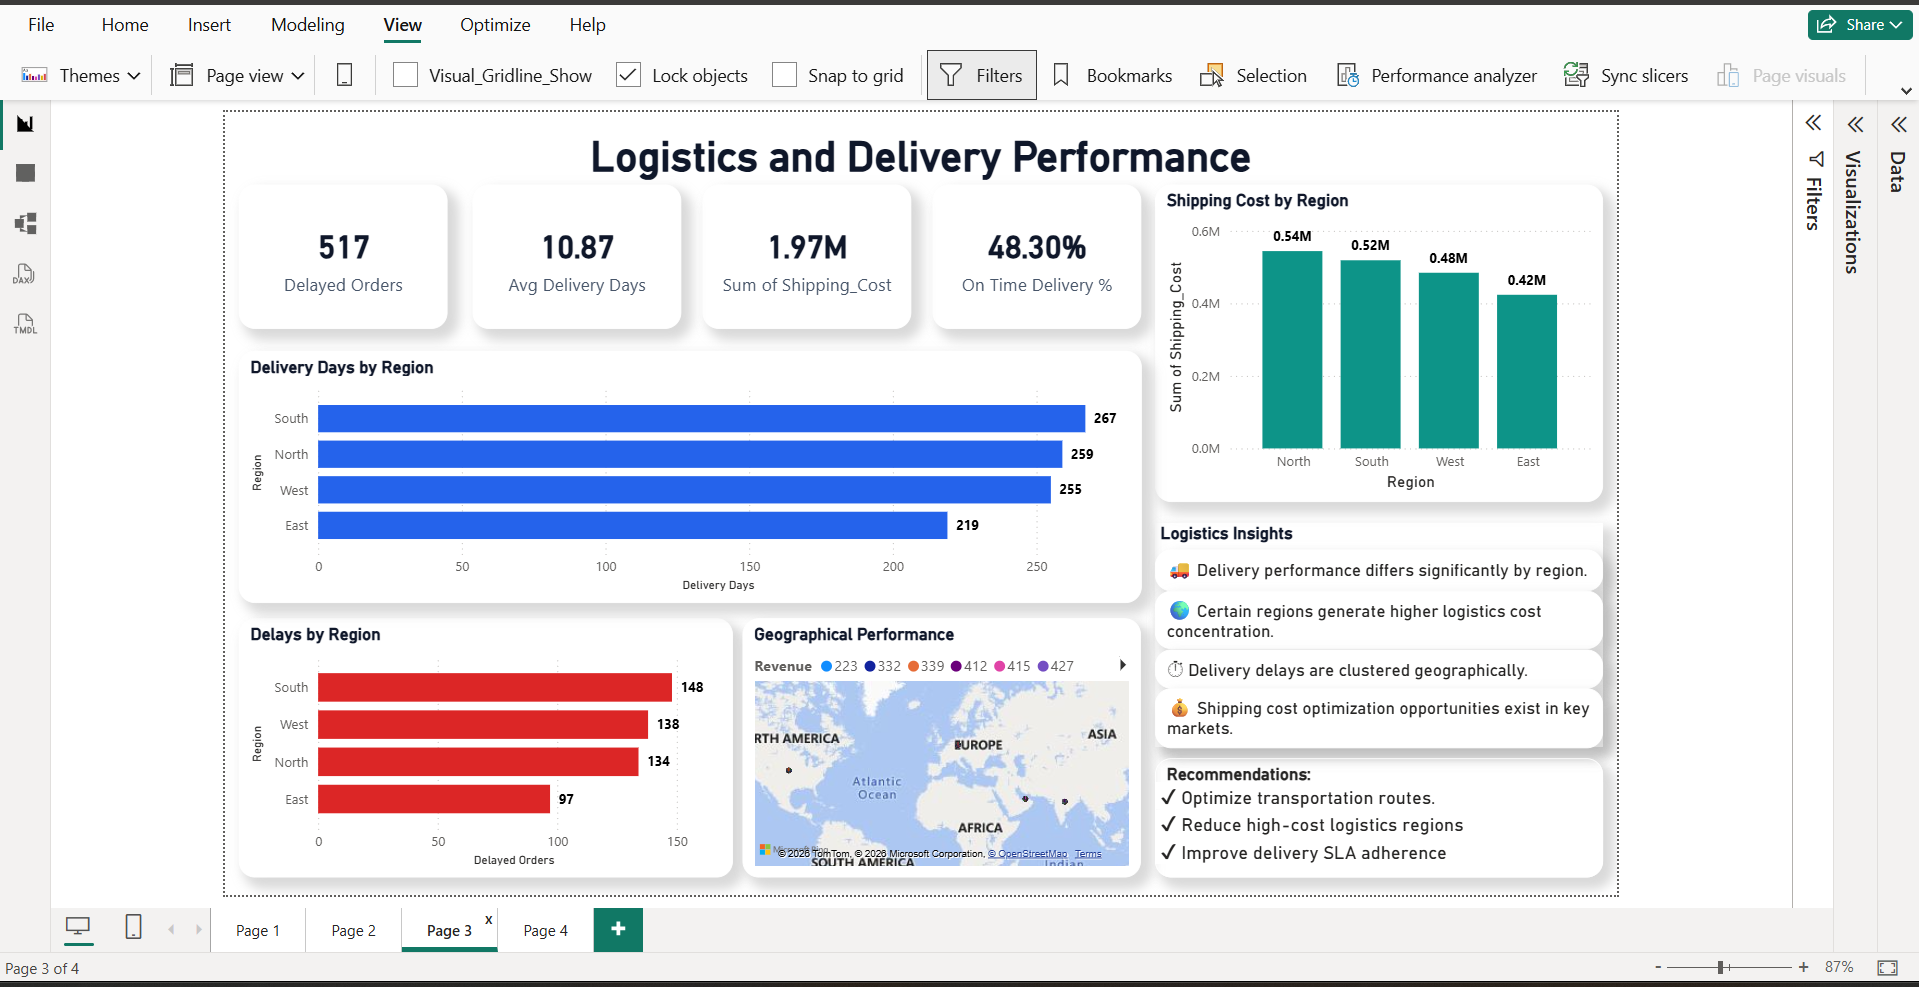

What the dashboard file says about the page in this screenshot:
{"tool":"powerbi","page":{"name":"Page 3","canvas":[1280,720],"ordinal":2},"visuals":[{"type":"textbox","title":"Logistics and Delivery Performance","box":[0,17.8,1280.3,45.3],"z":0},{"type":"card","fields":{"Values":["supply_chain_project supply_chain.On Time Delivery %"]},"box":[650.4,67.2,192.1,133.1],"z":1},{"type":"card","fields":{"Values":["Sum(supply_chain_project supply_chain.Shipping_Cost)"]},"box":[439.1,67.2,192.1,133.1],"z":2},{"type":"card","fields":{"Values":["supply_chain_project supply_chain.Avg Delivery Days"]},"box":[227.8,67.2,192.1,133.1],"z":3},{"type":"card","fields":{"Values":["supply_chain_project supply_chain.Delayed Orders"]},"box":[12.3,67.2,192.1,133.1],"z":4},{"type":"clusteredBarChart","title":"Delays by Region","fields":{"Category":["supply_chain_project supply_chain.Region"],"Y":["supply_chain_project supply_chain.Delayed Orders"]},"box":[12.3,465.2,454.2,238.8],"z":5},{"type":"clusteredColumnChart","title":"Shipping Cost by Region","fields":{"Category":["supply_chain_project supply_chain.Region"],"Y":["Sum(supply_chain_project supply_chain.Shipping_Cost)"]},"box":[854.9,67.2,411.7,292.3],"z":6},{"type":"clusteredBarChart","title":"Delivery Days by Region","fields":{"Category":["supply_chain_project supply_chain.Region"],"Y":["CountNonNull(supply_chain_project supply_chain.Delivery_Days)"]},"box":[12.3,219.6,830.2,231.9],"z":7},{"type":"map","title":"Geographical Performance","fields":{"Category":["supply_chain_project supply_chain.Country"],"Series":["supply_chain_project supply_chain.Revenue"]},"box":[476.2,465.2,366.4,238.8],"z":8},{"type":"textbox","title":"Logistics Insights","box":[854.9,378.7,411.7,205.8],"z":9},{"type":"textbox","title":"🚚 Delivery performance differs significantly by region.","box":[854.9,402.1,411.7,38.4],"z":10},{"type":"textbox","title":"🌍 Certain regions generate higher logistics cost concentration.","box":[854.9,440.5,411.7,53.5],"z":11},{"type":"textbox","title":"⏱ Delivery delays are clustered geographically.","box":[854.9,494,411.7,35.7],"z":12},{"type":"textbox","title":"💰 Shipping cost optimization opportunities exist in key markets.","box":[854.9,529.7,411.7,54.9],"z":13},{"type":"textbox","title":"Recommendations:","box":[854.9,594.2,411.7,109.8],"z":14},{"type":"textbox","title":"✔ Optimize transportation routes.","box":[854.9,616.1,411.7,24.7],"z":15},{"type":"textbox","title":"✔ Reduce high-cost logistics regions","box":[854.9,640.8,411.7,28.8],"z":16},{"type":"textbox","title":"✔ Improve delivery SLA adherence","box":[854.9,666.9,411.7,24.7],"z":17}]}

Visuals, with their boxes on the page's 1280x720 design canvas (x1, y1, x2, y2). These are canvas units, not pixel positions in the 1919x987 screenshot, which may show the page scaled, cropped or inside an application window:
"Logistics and Delivery Performance" textbox: 0, 18, 1280, 63
card - supply_chain_project supply_chain.On Time Delivery %: 650, 67, 842, 200
card - Sum(supply_chain_project supply_chain.Shipping_Cost): 439, 67, 631, 200
card - supply_chain_project supply_chain.Avg Delivery Days: 228, 67, 420, 200
card - supply_chain_project supply_chain.Delayed Orders: 12, 67, 204, 200
"Delays by Region" clusteredBarChart: 12, 465, 466, 704
"Shipping Cost by Region" clusteredColumnChart: 855, 67, 1267, 360
"Delivery Days by Region" clusteredBarChart: 12, 220, 842, 452
"Geographical Performance" map: 476, 465, 843, 704
"Logistics Insights" textbox: 855, 379, 1267, 584
"🚚 Delivery performance differs significantly by region." textbox: 855, 402, 1267, 440
"🌍 Certain regions generate higher logistics cost concentration." textbox: 855, 440, 1267, 494
"⏱ Delivery delays are clustered geographically." textbox: 855, 494, 1267, 530
"💰 Shipping cost optimization opportunities exist in key markets." textbox: 855, 530, 1267, 585
"Recommendations:" textbox: 855, 594, 1267, 704
"✔ Optimize transportation routes." textbox: 855, 616, 1267, 641
"✔ Reduce high-cost logistics regions" textbox: 855, 641, 1267, 670
"✔ Improve delivery SLA adherence" textbox: 855, 667, 1267, 692
